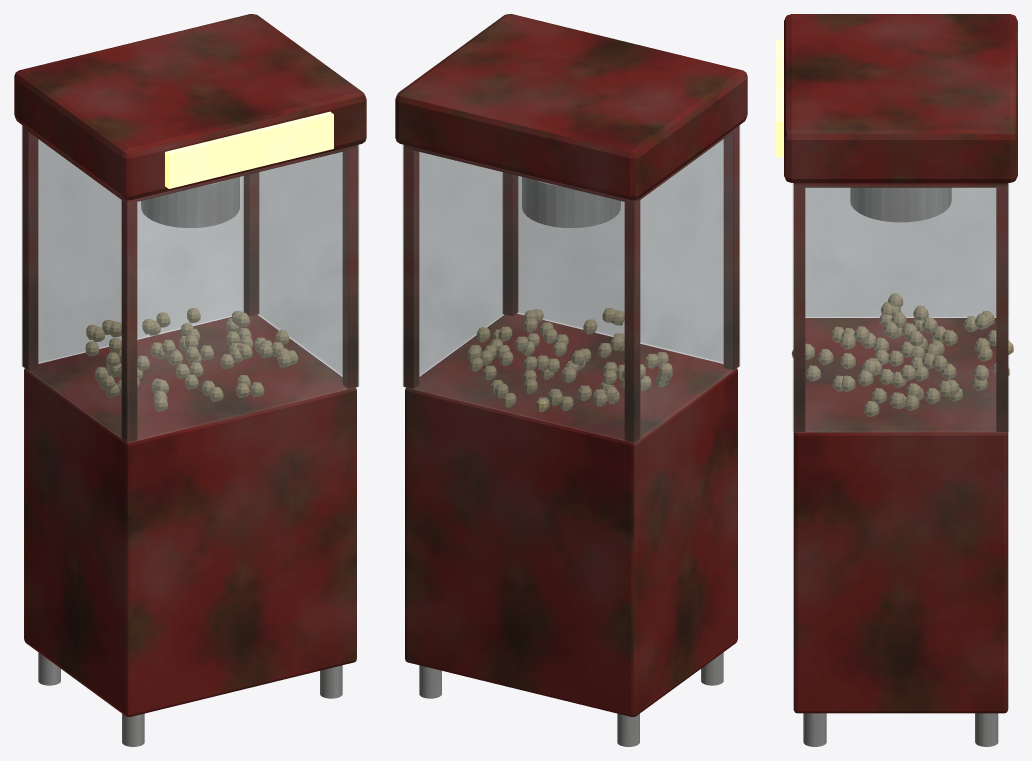
The model's file is Q08_PopcornMachine.glb.
3 renders of one model, left to right at view 1: azimuth 30°, elevation 25°; view 2: azimuth 150°, elevation 25°; view 3: azimuth 270°, elevation 25°, orthographic. The views are drawn at different scales.
Visible parts, largest first — view 1: Q08_PopcornMachine; view 2: Q08_PopcornMachine; view 3: Q08_PopcornMachine.
Boxes of the visible parts, x1=… form: Q08_PopcornMachine: x1=14, y1=14, x2=366, y2=746; Q08_PopcornMachine: x1=395, y1=14, x2=747, y2=746; Q08_PopcornMachine: x1=776, y1=14, x2=1017, y2=746.
Bounding box in the file's own units: 0.7168 × 1.7 × 0.6006.
5 materials, 5 textured.
